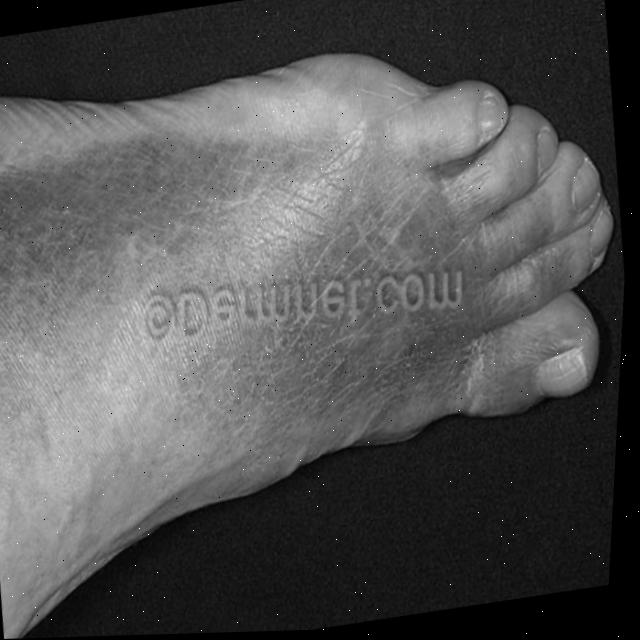Eczema: (0, 149, 488, 486)
